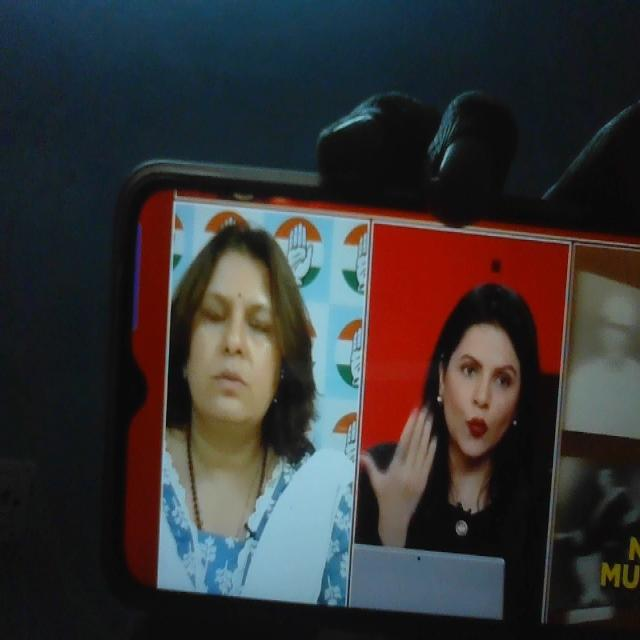fake: (174, 216, 295, 444), (427, 278, 535, 482)
